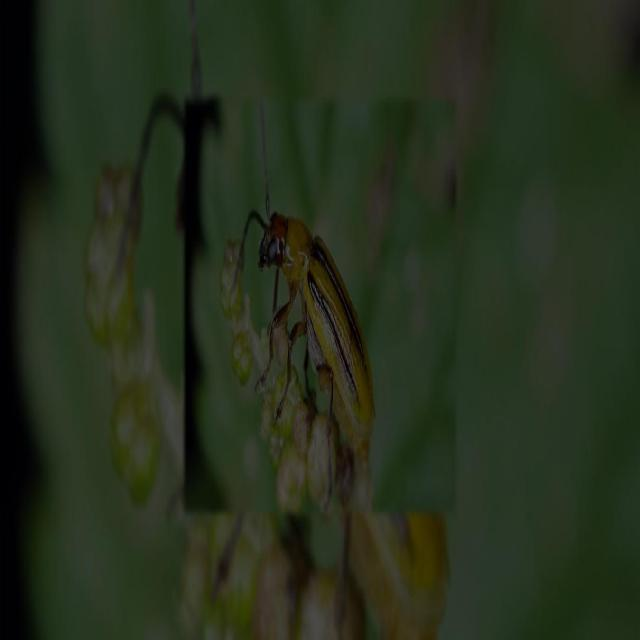trips: (218, 167, 388, 486)
